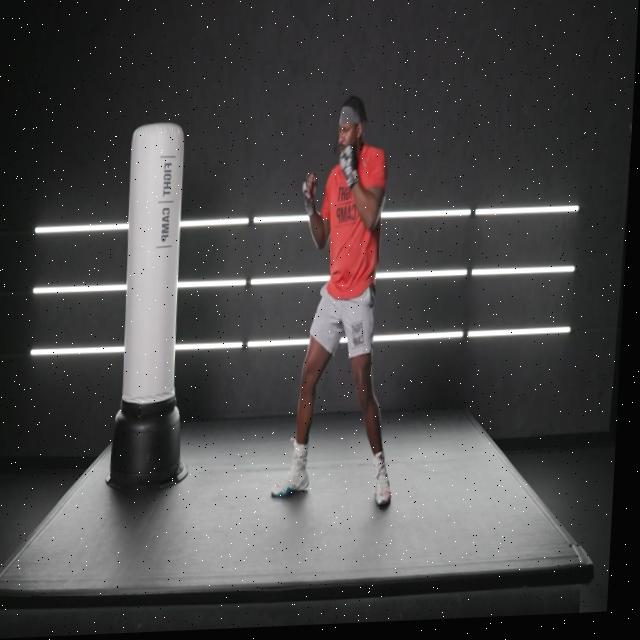Uppercut: (294, 144, 398, 310)
